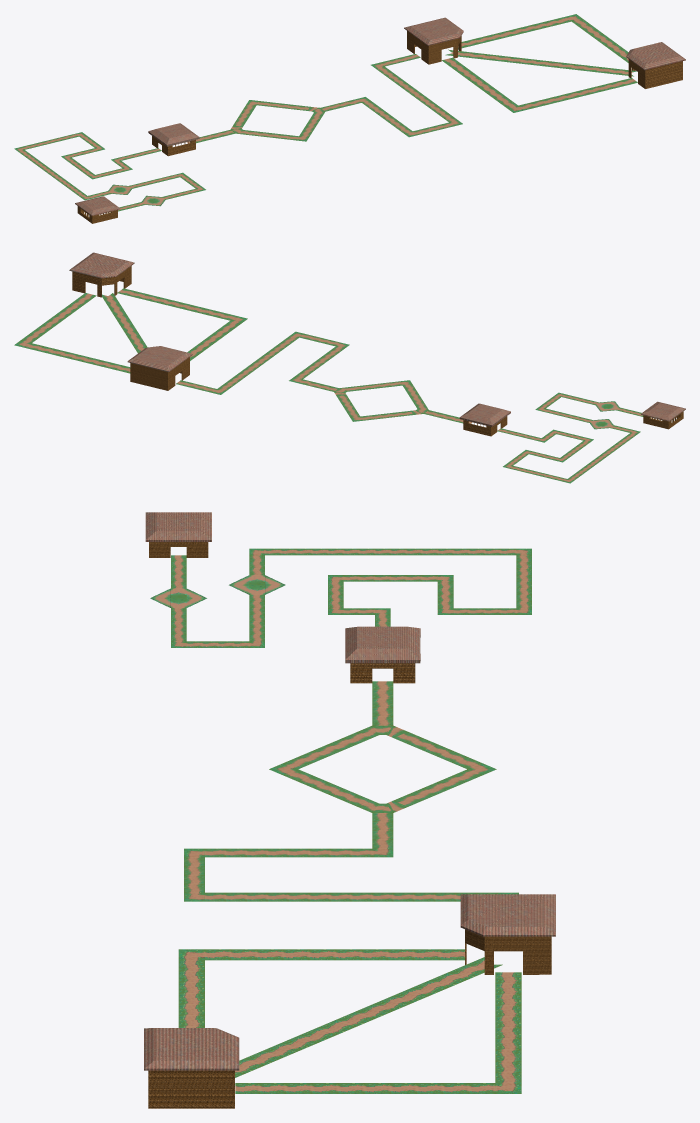
Rendered from CaminoTexturas.fbx.
3 views of the same model, one above another, from view 1: azimuth 30°, elevation 25°; view 2: azimuth 150°, elevation 25°; view 3: azimuth 270°, elevation 25° (orthographic). The views are drawn at different scales.
Parts seen in each view (by area): view 1: Plane238, Plane169, Plane099, Plane237; view 2: Plane169, Plane238, Plane099, Plane237; view 3: Plane238, Plane169, Plane099, Plane237.
Boxes of the visible parts, <box> form: Plane238: <box>626,42,685,88</box>; Plane169: <box>404,17,463,64</box>; Plane099: <box>148,123,199,156</box>; Plane237: <box>75,196,120,223</box>; Plane169: <box>127,346,192,390</box>; Plane238: <box>69,252,134,297</box>; Plane099: <box>459,403,510,436</box>; Plane237: <box>641,401,685,429</box>; Plane238: <box>144,1028,239,1108</box>; Plane169: <box>460,894,555,974</box>; Plane099: <box>345,626,420,683</box>; Plane237: <box>145,512,211,557</box>.
Bounding box in the file's own units: 19255 × 713 × 5790.
